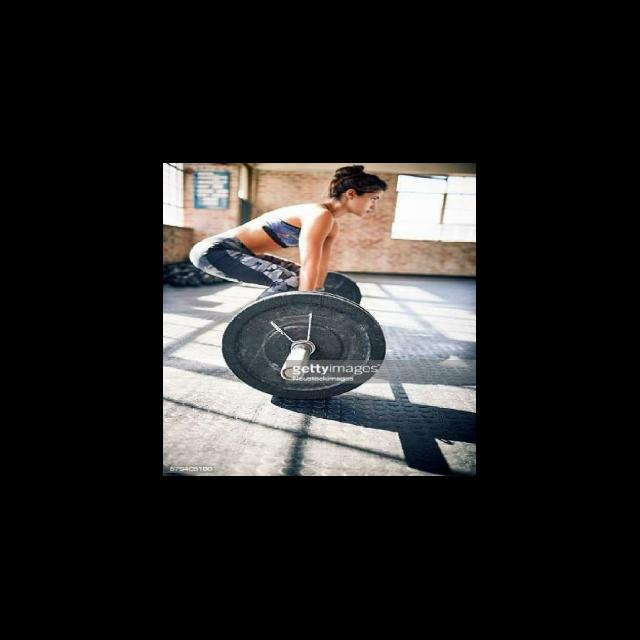barbell: (220, 290, 389, 407)
